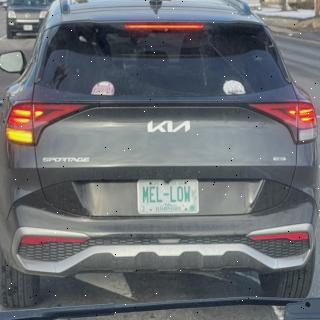license: (137, 180, 201, 216)
